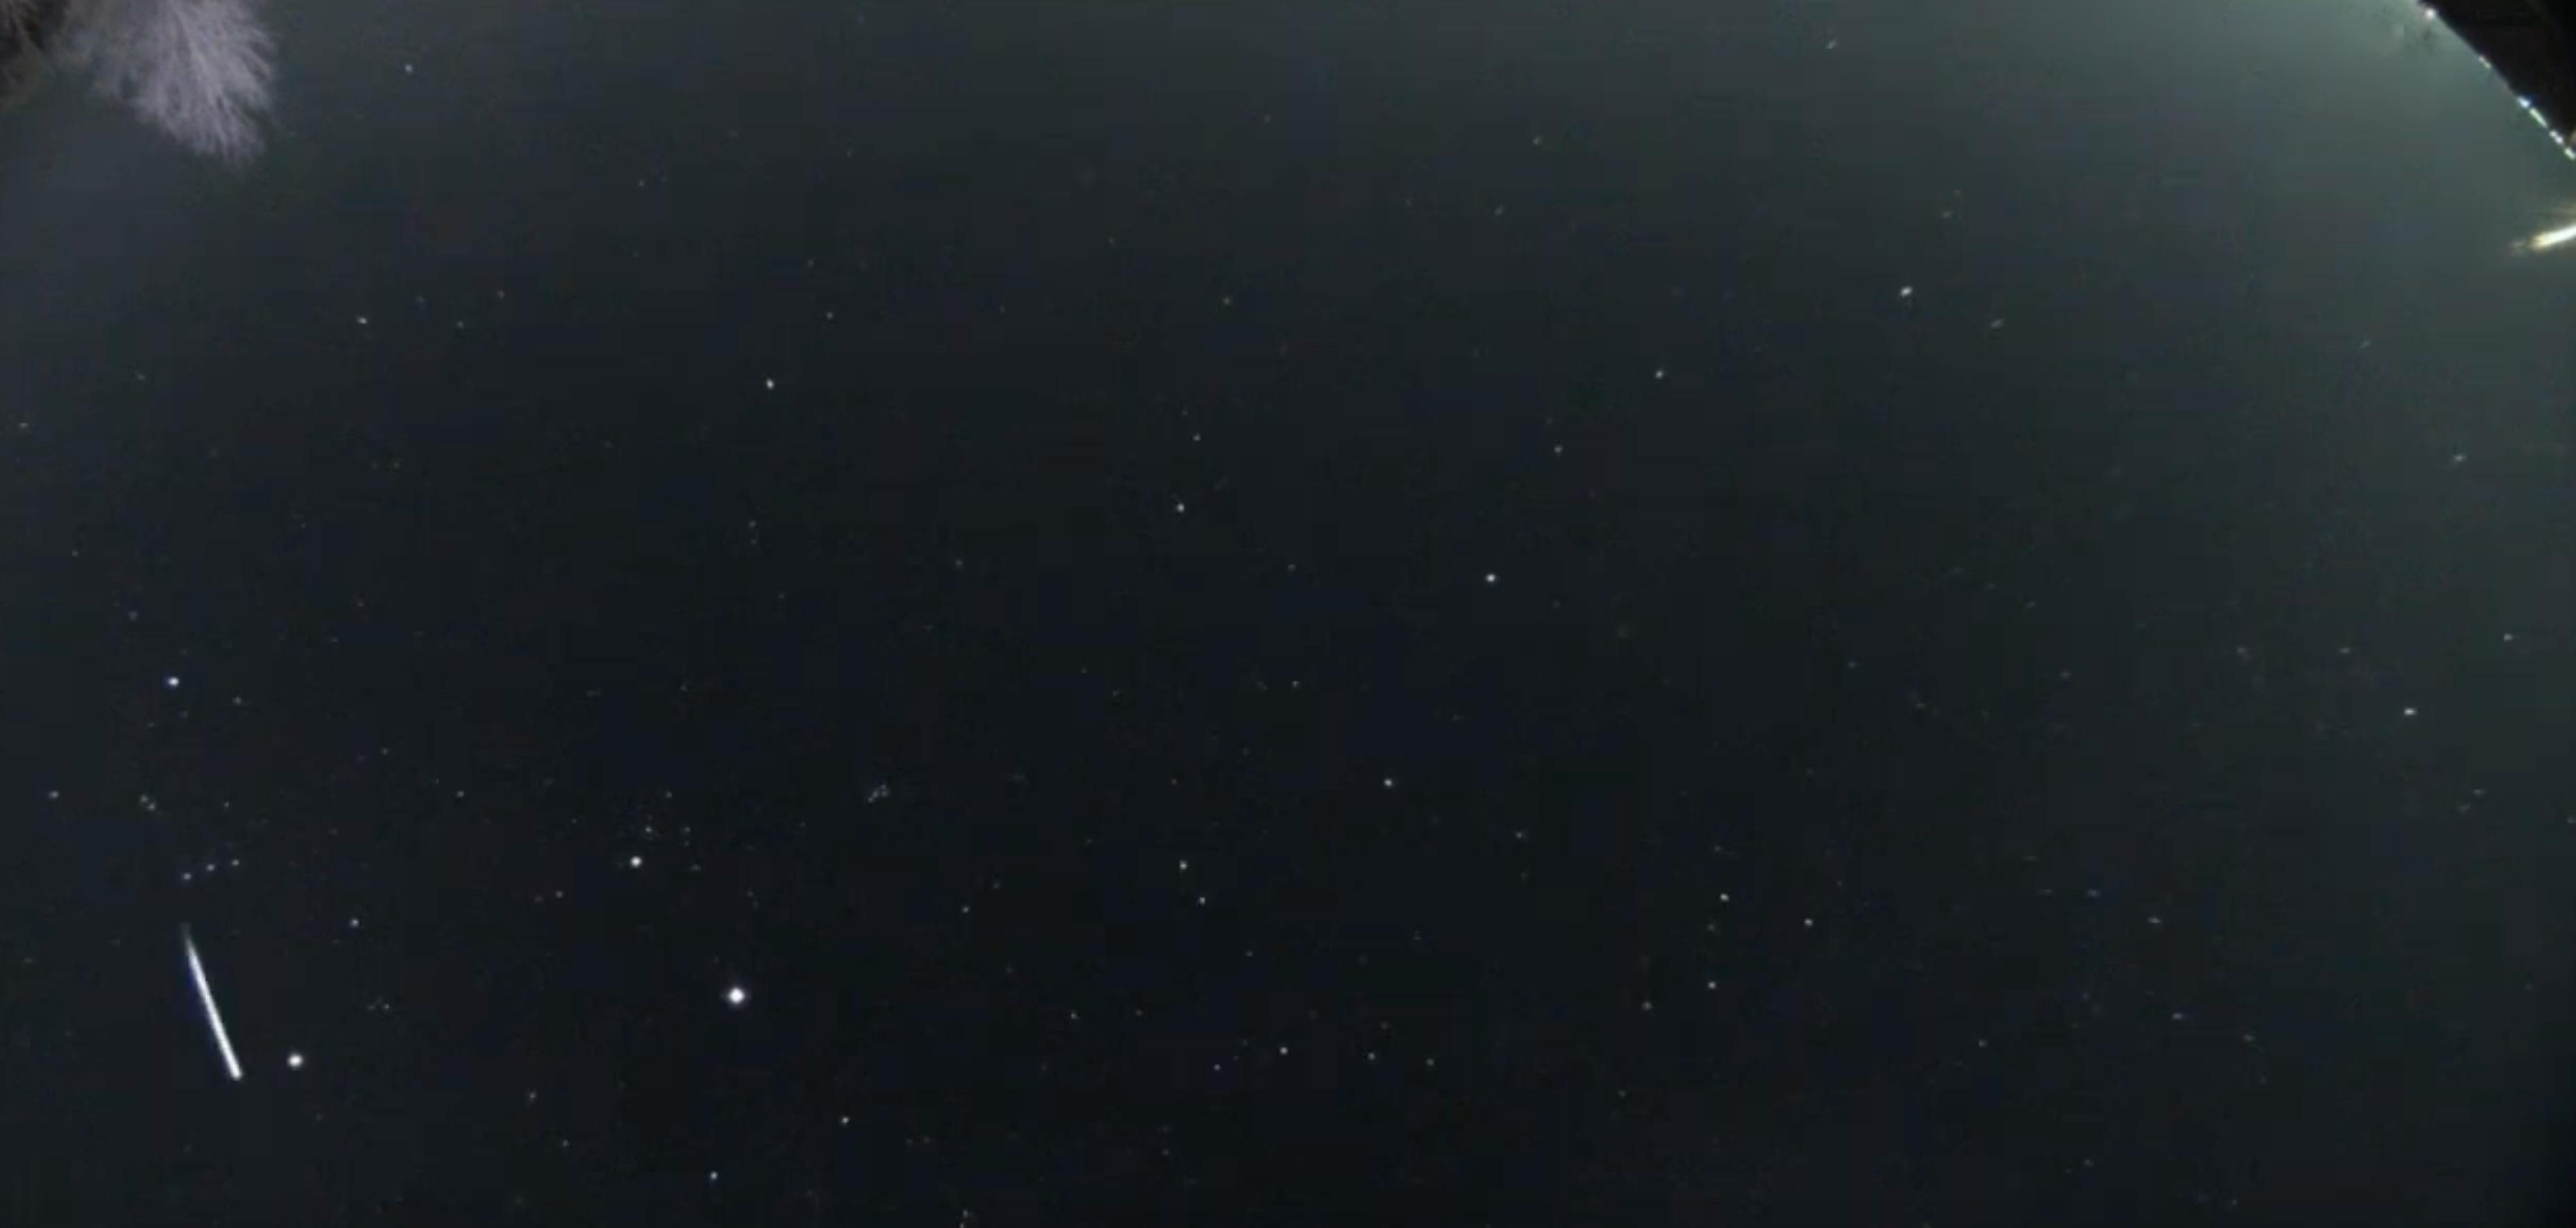meteorite: (138, 883, 283, 1103)
